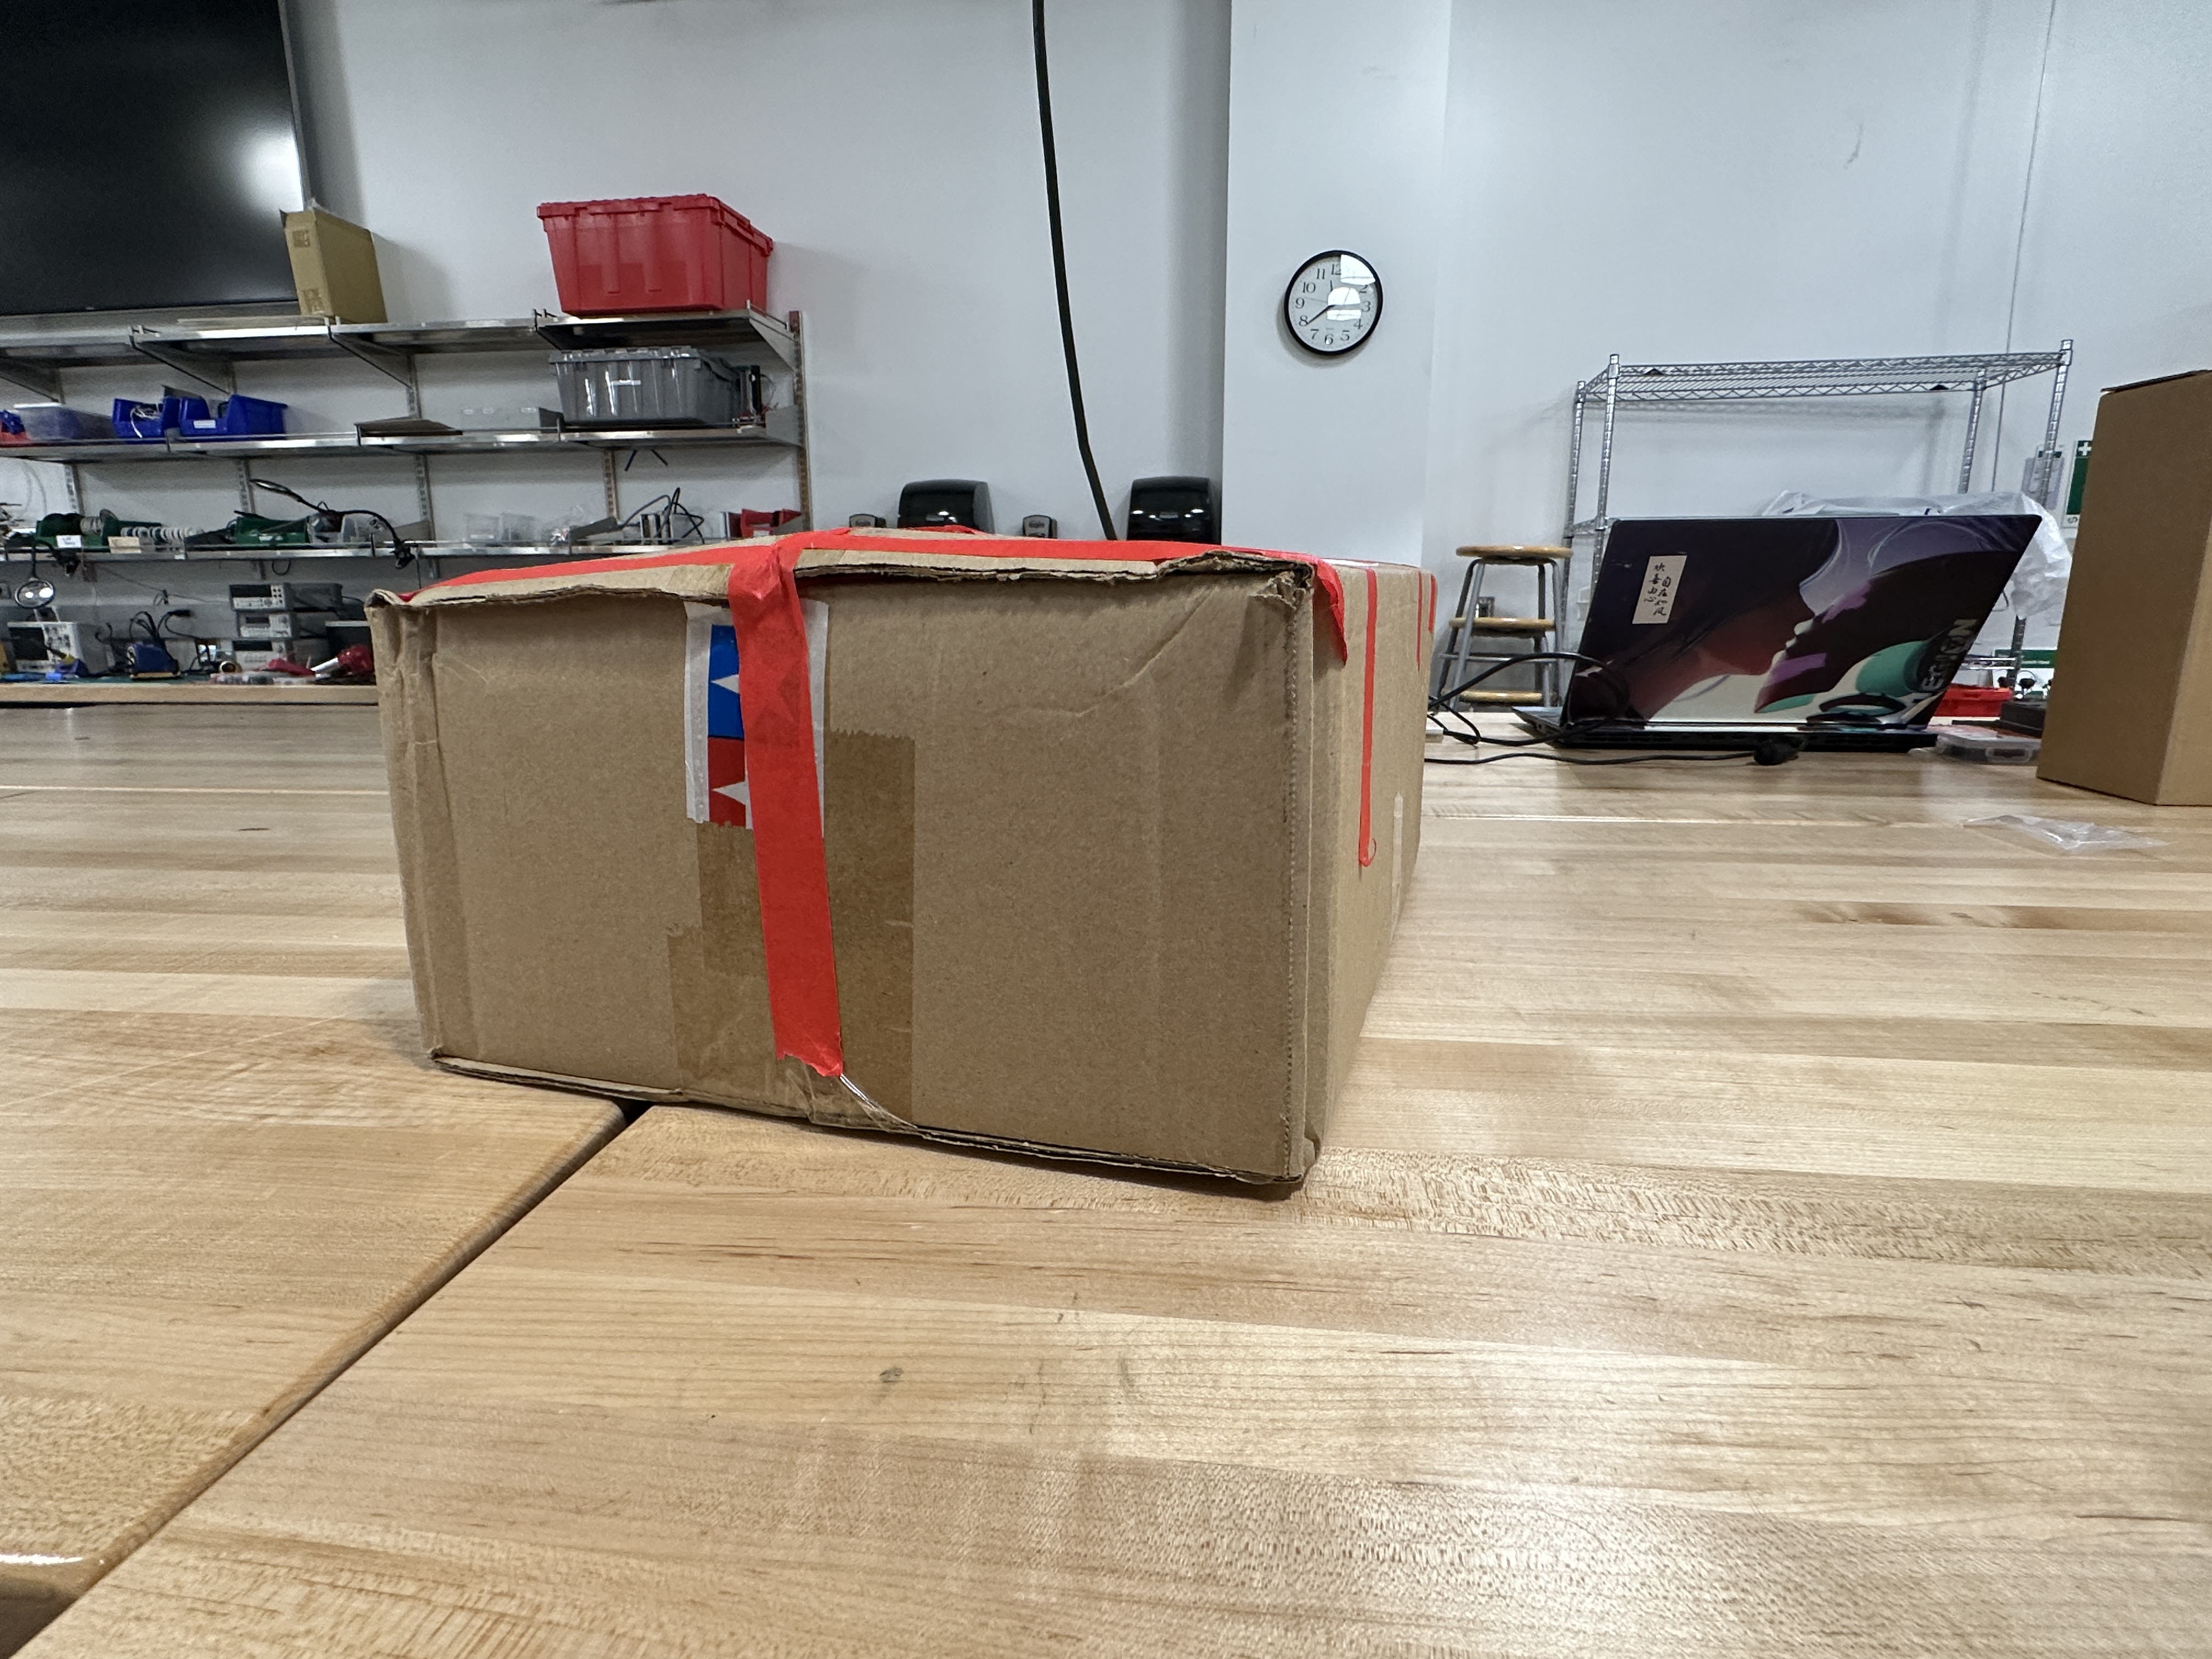Box_Obstacle: (352, 523, 1444, 1229)
